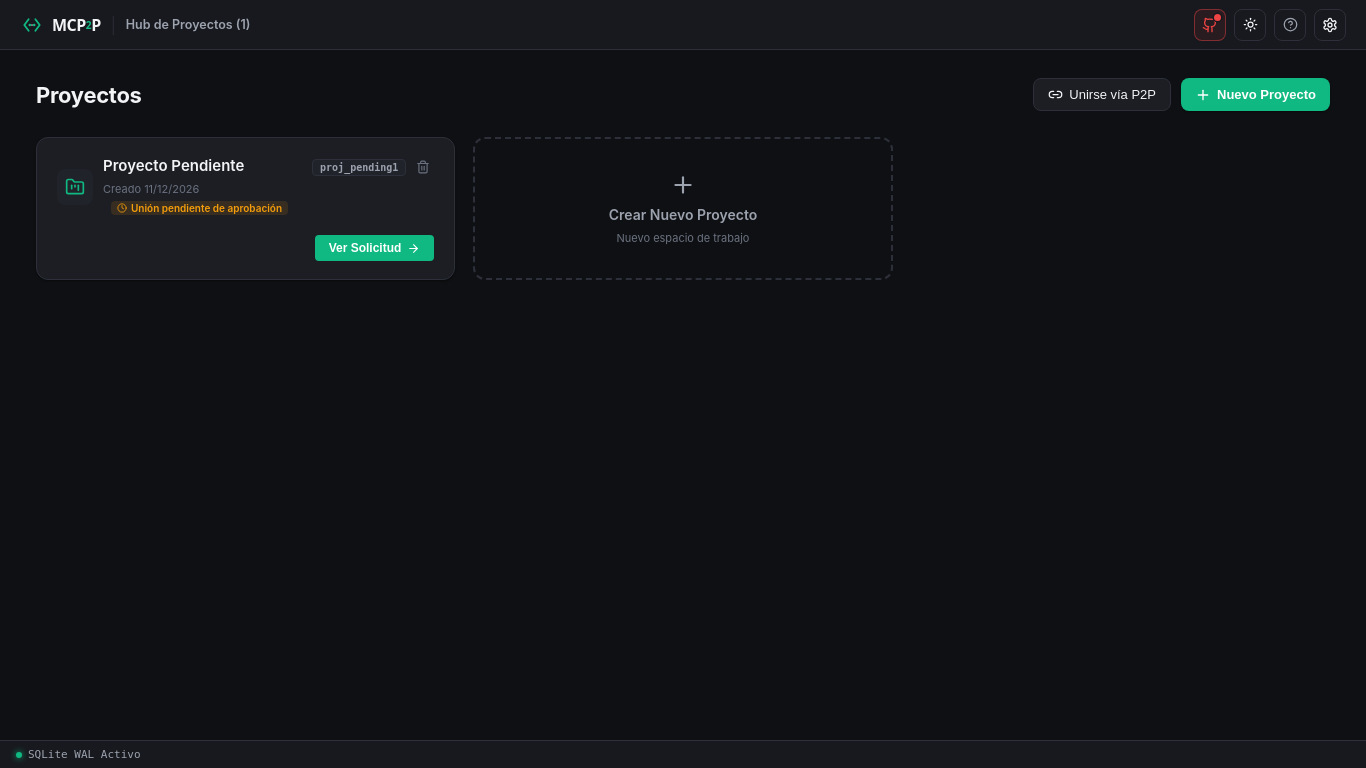
Scenario: App - stubs de unión pendientes en el hub de proyectos (hallazgo C2) › la pantalla de espera sigue abriéndose si no se pudo regenerar el código
The width and height of the screenshot is (1366, 768).
Expected: the button "Unirse vía P2P" is shown, [1033, 78, 1171, 111]
Click the button "Ver Solicitud".
click(374, 248)  # box [315, 235, 434, 261]
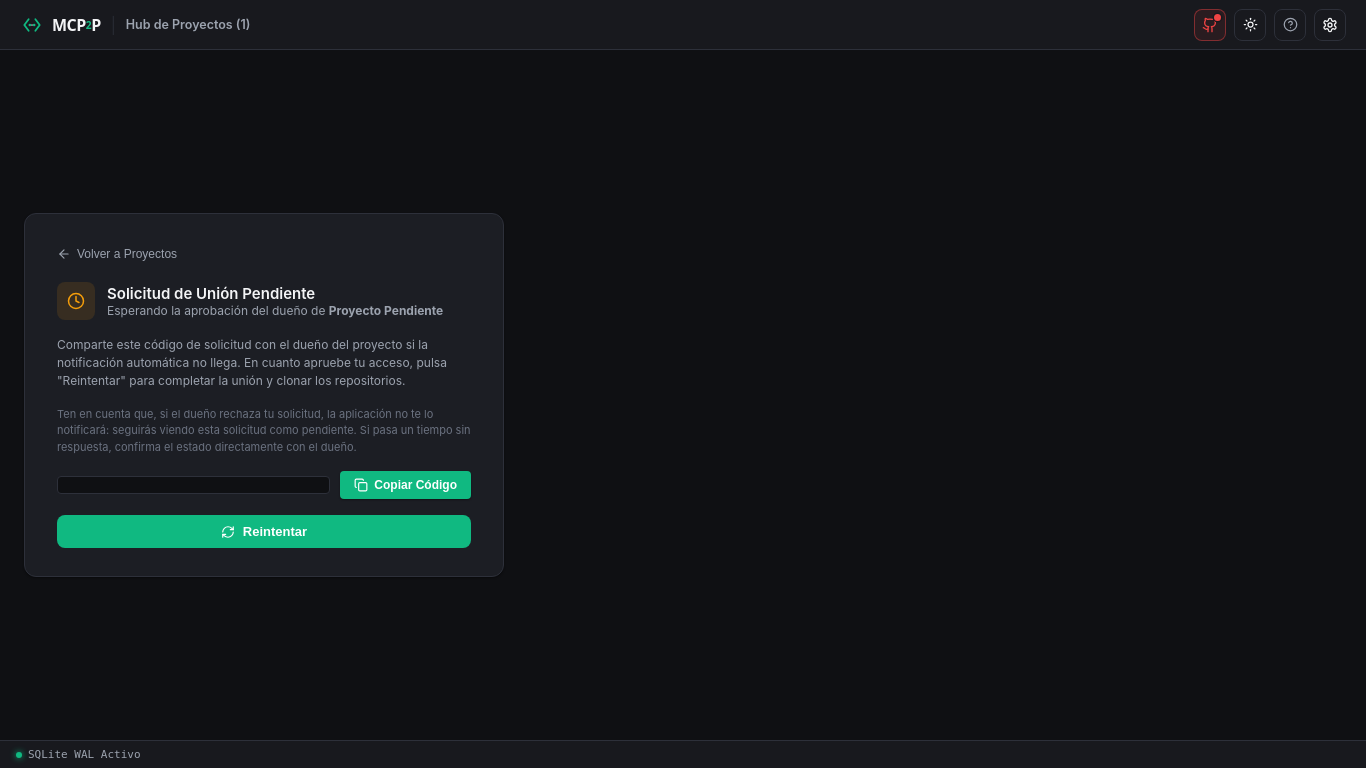
Expected: the element with test id "join-request-pending" is shown, [24, 213, 504, 577]
